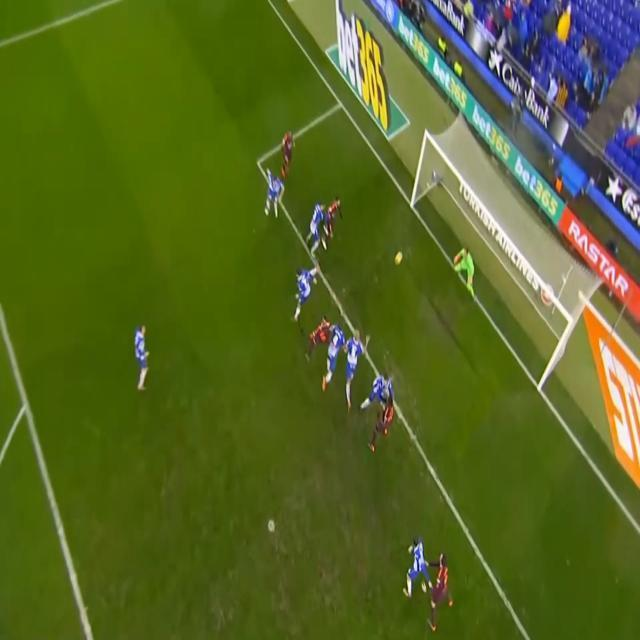ball: (393, 244, 405, 273)
goalkeeper: (452, 237, 482, 297)
player: (402, 528, 443, 633), (422, 543, 457, 635), (366, 364, 401, 450), (260, 158, 287, 226), (131, 320, 155, 395), (274, 124, 301, 183), (322, 328, 344, 398), (292, 261, 313, 327), (325, 189, 343, 256)
